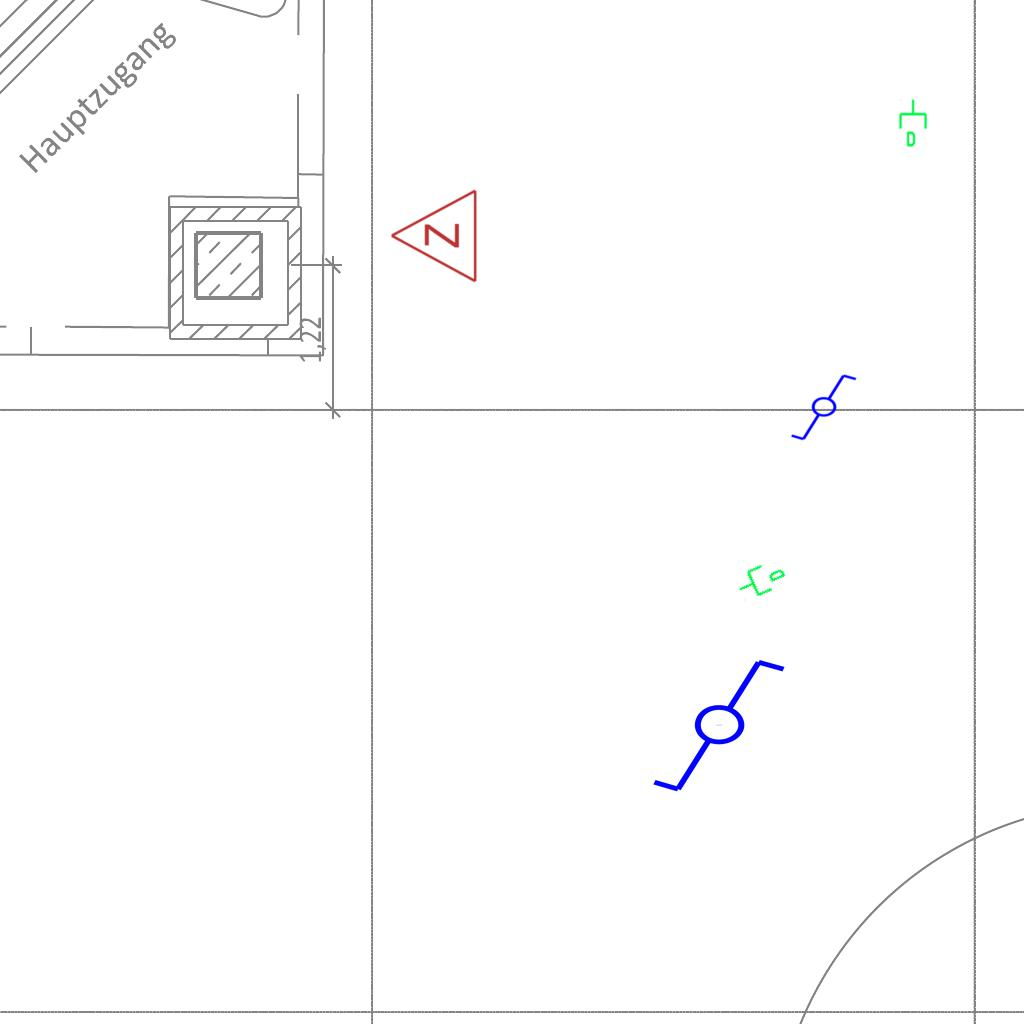Datenanschluss_einfach: (731, 553, 791, 605), (897, 98, 931, 148)
Wechselschalter: (649, 655, 806, 799), (789, 372, 867, 444)
Zimmersignalleuchte: (384, 188, 484, 286)
